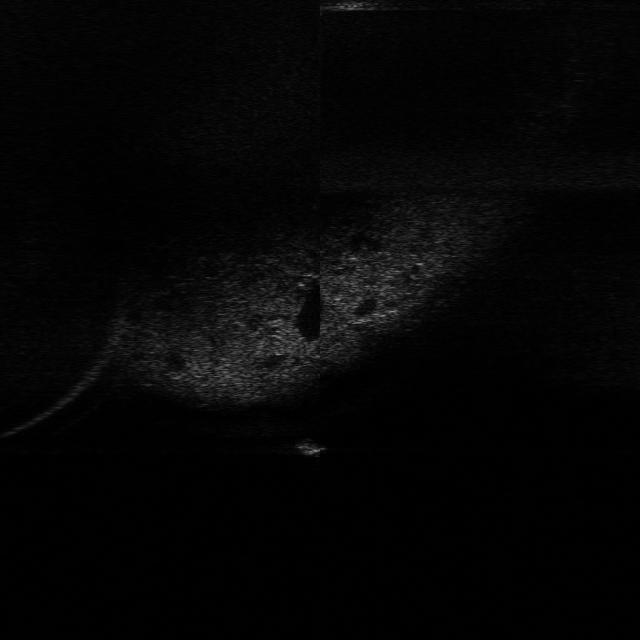cube: (287, 434, 333, 458)
